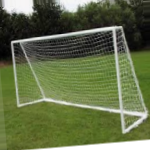goals: (10, 24, 148, 135)
